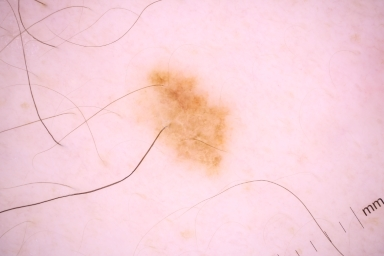nevus: (145, 70, 226, 169)
